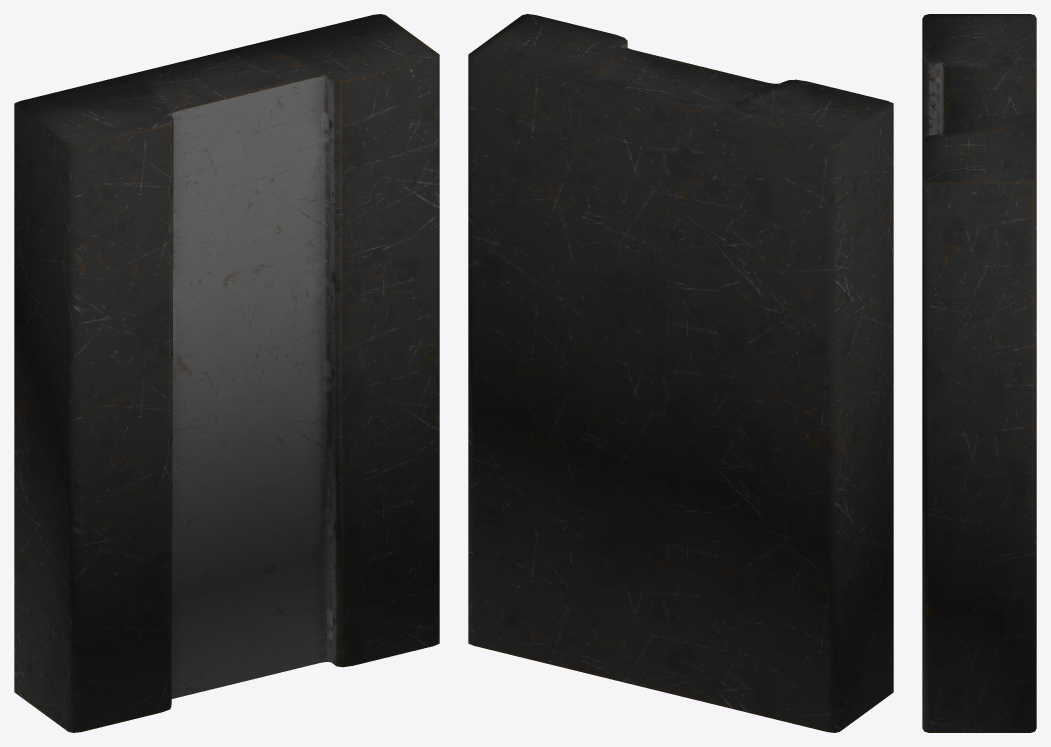
Rendered from Rail.gltf.
3 renders of one model, left to right at view 1: azimuth 30°, elevation 25°; view 2: azimuth 150°, elevation 25°; view 3: azimuth 270°, elevation 25°, orthographic. The views are drawn at different scales.
Visible parts, largest first — view 1: Cube.003; view 2: Cube.003; view 3: Cube.003.
Part boxes in pixels (x1,y1,x2,y2): Cube.003: (14, 14, 439, 732); Cube.003: (468, 14, 893, 732); Cube.003: (922, 14, 1036, 732).
Bounding box in the file's own units: 0.8455 × 1.28 × 0.24.
Materials: 1 (1 with a texture image).
